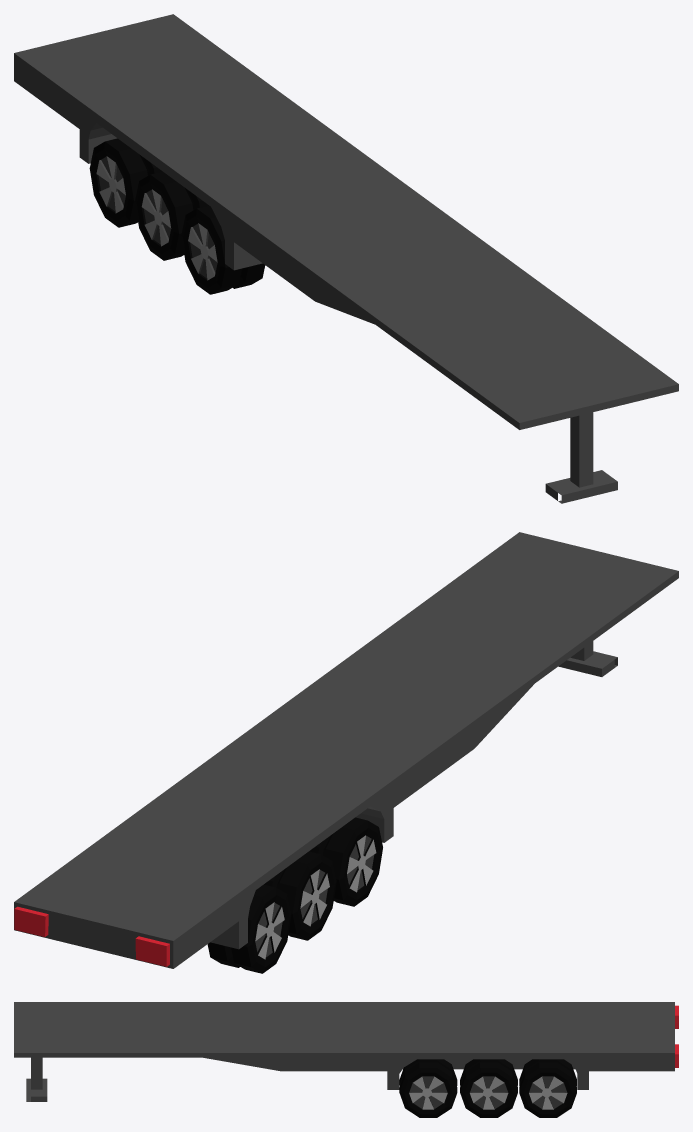
File: V12 Back.fbx
The picture shows the model from 3 angles, top to bottom: view 1: azimuth 30°, elevation 25°; view 2: azimuth 150°, elevation 25°; view 3: azimuth 270°, elevation 25°; orthographic projection. The views are drawn at different scales.
Parts seen in each view (by area): view 1: Back, R2_R_Wheel.002, R1_R_Wheel.001, R3_R_Wheel.003, Back.003; view 2: Back, R1_R_Wheel.001, R3_R_Wheel.003, R2_R_Wheel.002, Back.003; view 3: Back, R2_L_Wheel.005, R3_L_Wheel.006, R1_L_Wheel.004, Back.003.
Part boxes in pixels (left/top/right/bottom): Back: left=14, top=14, right=678, bottom=429; R2_R_Wheel.002: left=135, top=171, right=208, bottom=260; R1_R_Wheel.001: left=181, top=205, right=265, bottom=294; R3_R_Wheel.003: left=89, top=138, right=162, bottom=227; Back.003: left=545, top=412, right=617, bottom=503; Back: left=14, top=532, right=678, bottom=968; R1_R_Wheel.001: left=309, top=817, right=382, bottom=906; R3_R_Wheel.003: left=207, top=884, right=291, bottom=973; R2_R_Wheel.002: left=264, top=851, right=336, bottom=940; Back.003: left=558, top=641, right=617, bottom=676; Back: left=14, top=1002, right=678, bottom=1089; R2_L_Wheel.005: left=460, top=1059, right=517, bottom=1117; R3_L_Wheel.006: left=519, top=1059, right=576, bottom=1117; R1_L_Wheel.004: left=399, top=1059, right=457, bottom=1117; Back.003: left=26, top=1057, right=47, bottom=1101.
Bounding box in the file's own units: 517 × 307 × 2820.
